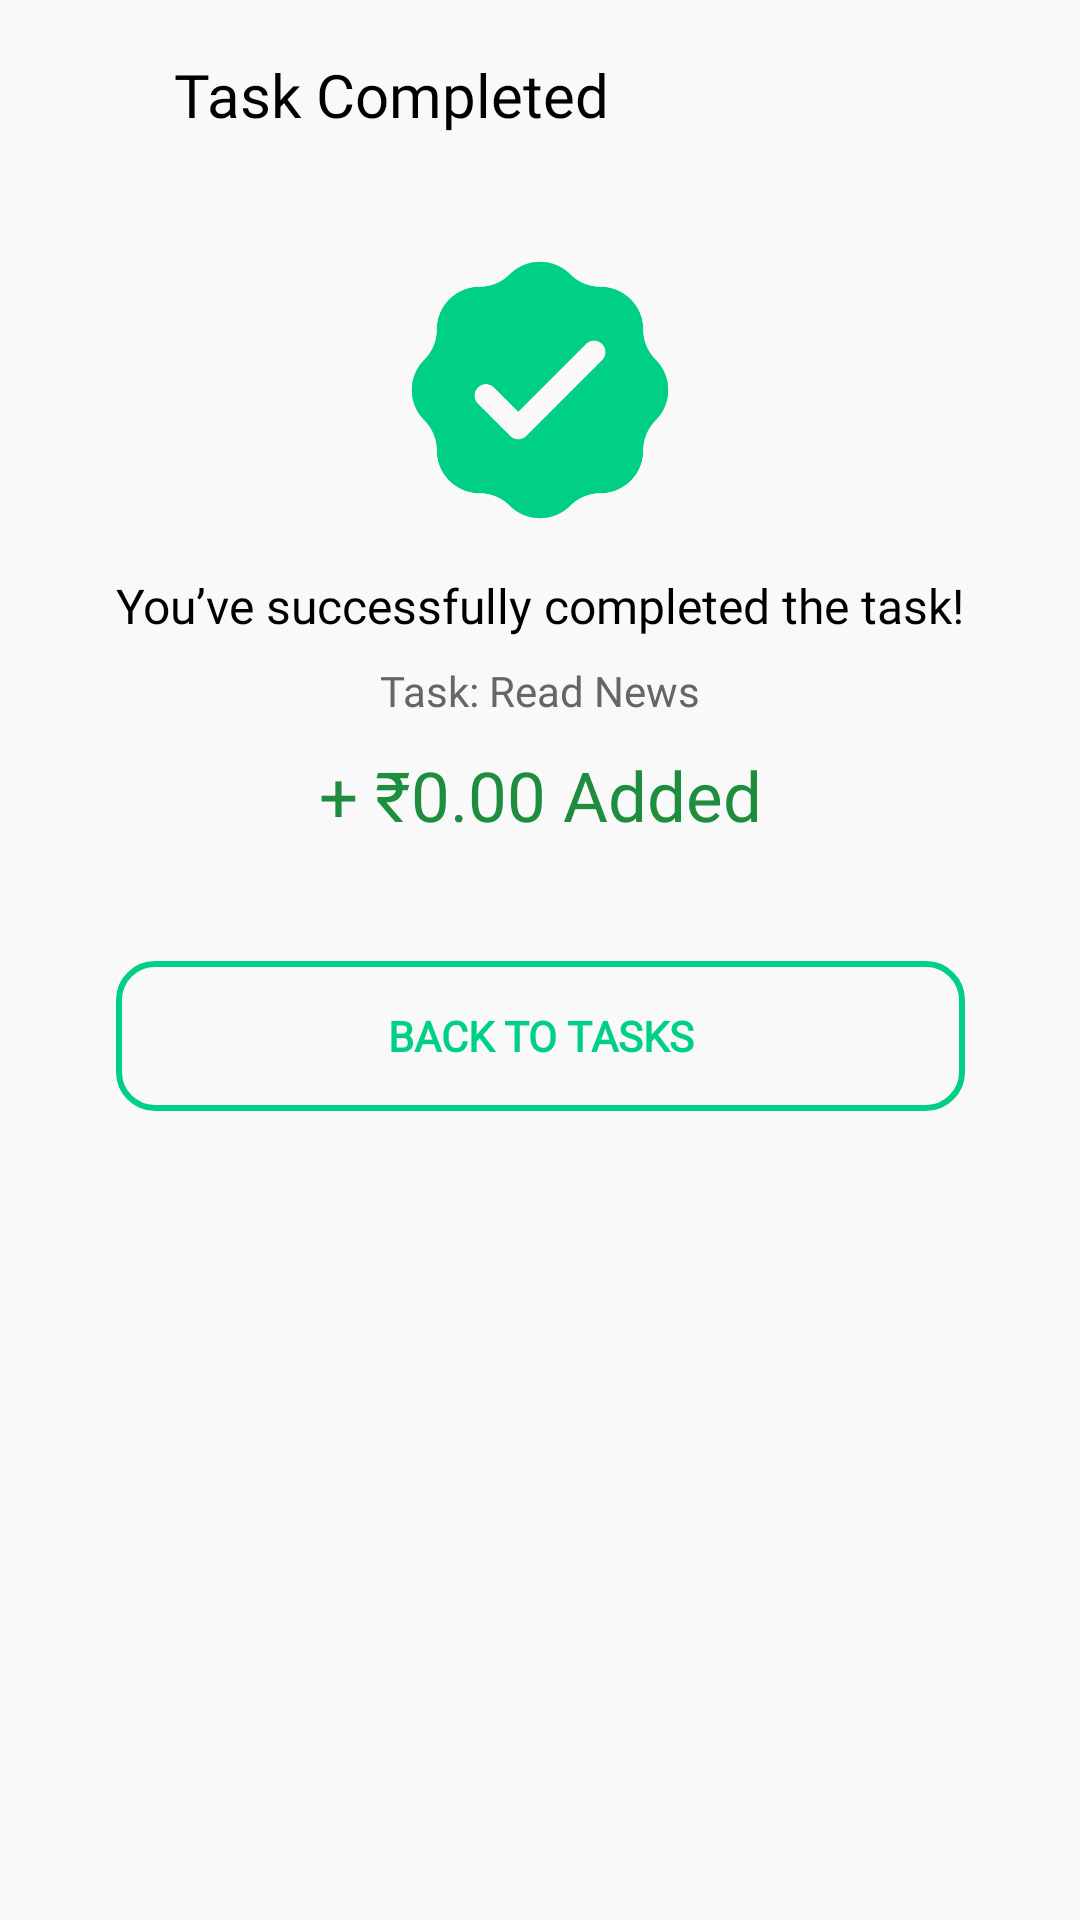

Where to tap for icons on this 1080*1920 app screen, as (x,y):
check done: (540,390)
